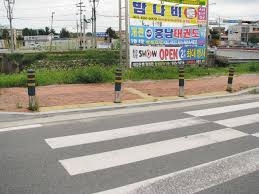guide_blocks: (40, 99, 112, 107), (123, 95, 180, 103), (126, 86, 148, 95), (187, 91, 227, 95)
